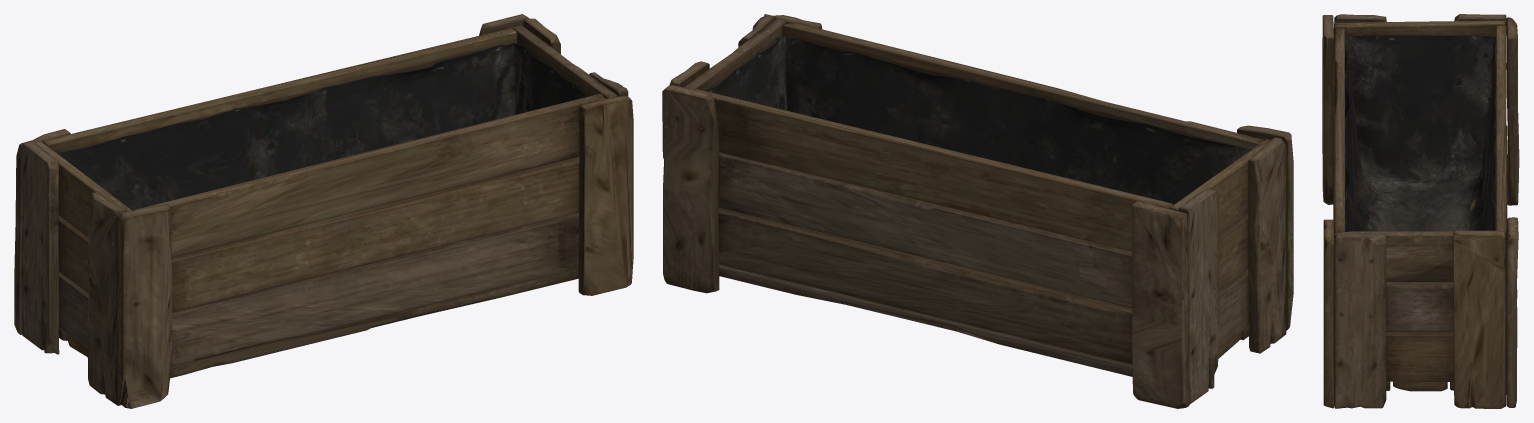
Rendered from planter-box-02.glb.
3 renders of one model, left to right at view 1: azimuth 30°, elevation 25°; view 2: azimuth 150°, elevation 25°; view 3: azimuth 270°, elevation 25°, orthographic. The views are drawn at different scales.
Visible parts, largest first — view 1: planter_box_02; view 2: planter_box_02; view 3: planter_box_02.
Boxes of the visible parts, <box> form: planter_box_02: <box>14,14,633,408</box>; planter_box_02: <box>662,14,1293,408</box>; planter_box_02: <box>1322,14,1519,408</box>.
Bounding box in the file's own units: 1.25 × 0.4533 × 0.4641.
Materials: 1 (1 with a texture image).
